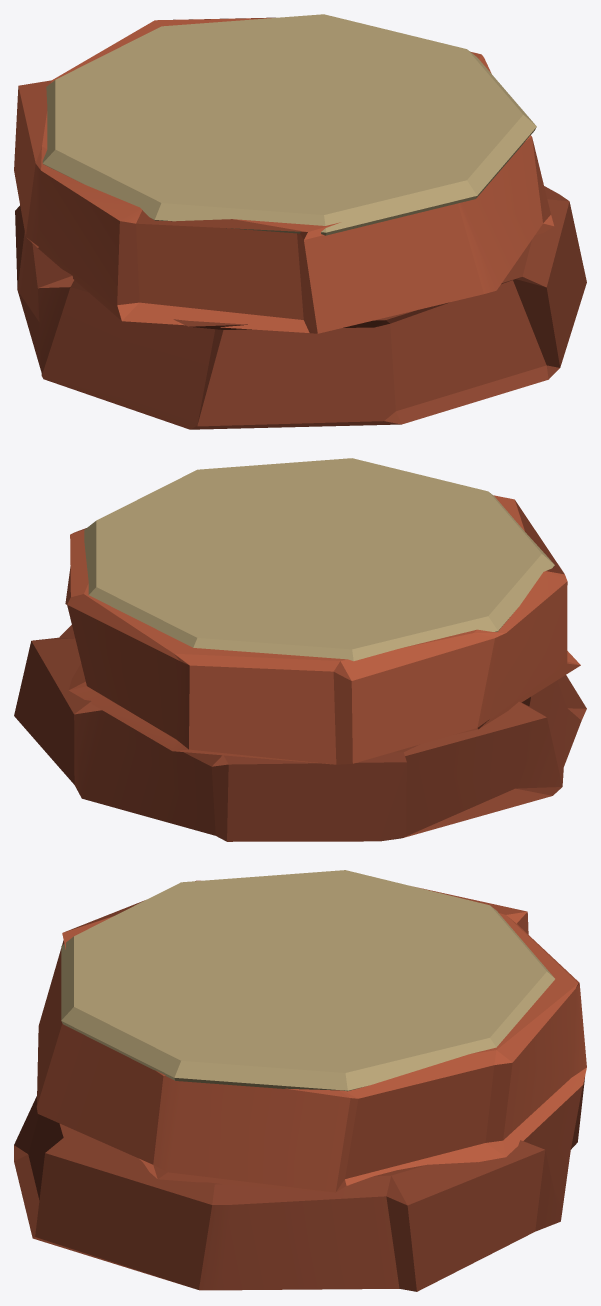
Rendered from Mesa_D.fbx.
3 renders of one model, top to bottom at view 1: azimuth 30°, elevation 25°; view 2: azimuth 150°, elevation 25°; view 3: azimuth 270°, elevation 25°, orthographic. The views are drawn at different scales.
Parts seen in each view (by area): view 1: Mesa_D; view 2: Mesa_D; view 3: Mesa_D.
Part boxes in pixels (left/top/right/bottom): Mesa_D: left=14, top=14, right=586, bottom=429; Mesa_D: left=14, top=458, right=586, bottom=841; Mesa_D: left=14, top=870, right=586, bottom=1291.
Bounding box in the file's own units: 4.08 × 1.53 × 3.94.
